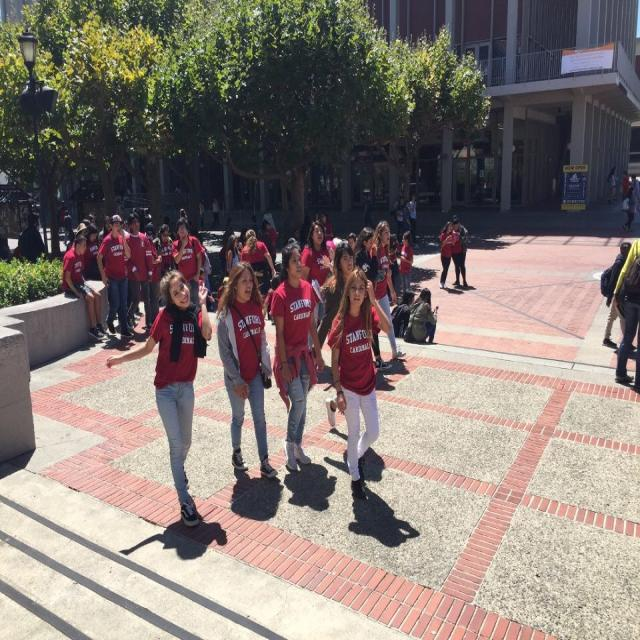body: (103, 267, 214, 534), (325, 267, 393, 501), (210, 258, 280, 484), (268, 241, 326, 475), (311, 241, 356, 428), (218, 211, 284, 321), (344, 480, 430, 563), (116, 512, 233, 572), (352, 226, 393, 372), (59, 233, 110, 339), (368, 220, 406, 360), (94, 212, 134, 340), (610, 234, 640, 393), (299, 220, 332, 350), (601, 241, 638, 352), (240, 228, 278, 322), (126, 212, 155, 332), (286, 212, 358, 254), (171, 216, 203, 307), (57, 198, 112, 245), (403, 286, 439, 348), (605, 164, 640, 212), (18, 213, 48, 263), (449, 213, 469, 287), (390, 287, 417, 340), (438, 218, 457, 290), (394, 230, 415, 292), (152, 223, 175, 275), (83, 222, 101, 281), (200, 244, 216, 306), (225, 234, 243, 278), (621, 185, 637, 233), (394, 193, 409, 236), (408, 192, 418, 246), (130, 204, 154, 224), (188, 219, 203, 245), (62, 210, 72, 247), (0, 236, 13, 262), (210, 195, 220, 228), (198, 197, 205, 230), (145, 222, 156, 241), (125, 172, 134, 194), (175, 182, 182, 208), (122, 217, 131, 233), (178, 207, 188, 221), (185, 190, 193, 207), (161, 212, 171, 224)
